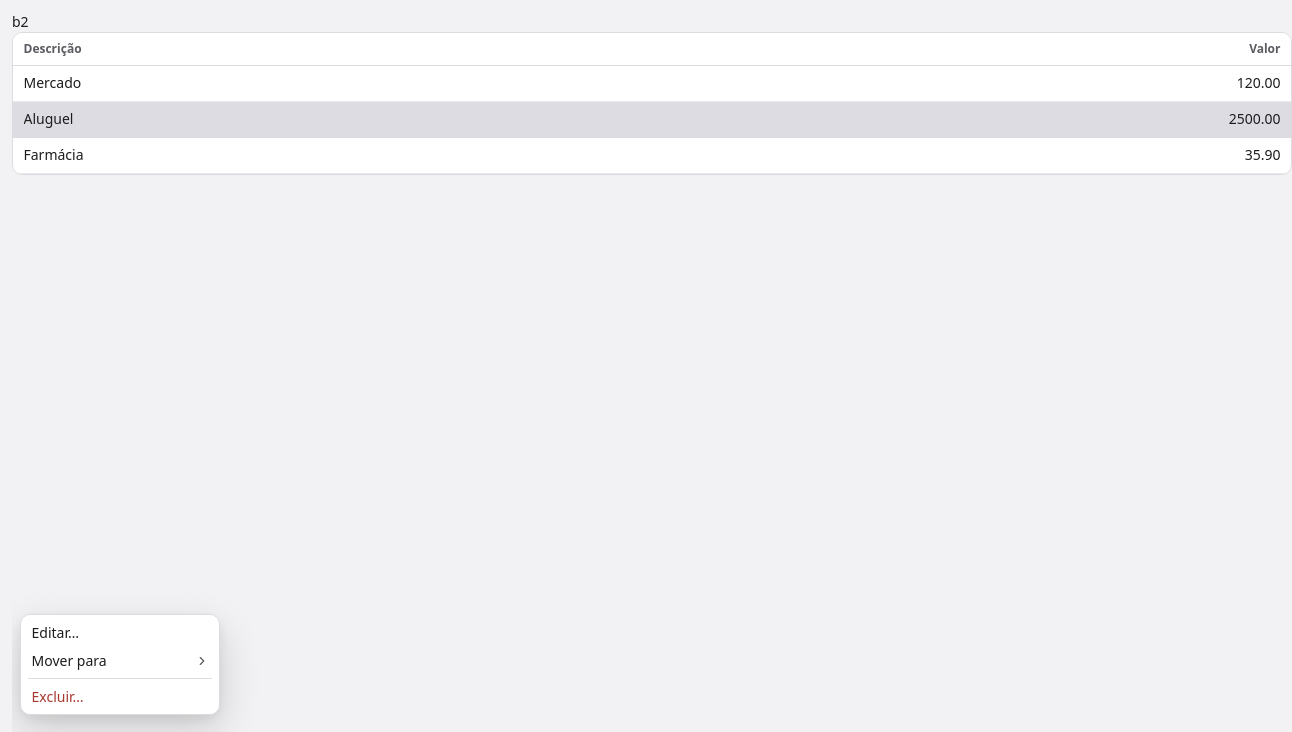
Test: DataTable row context menu › opens on a right click, selects the row, runs a command and gives the focus back to the table
Expected: the text with test id "selected" reads "b2", top-left (12, 12), bottom-right (29, 31)
Click the menu item "Editar…". click: (55, 632)
box: top-left (32, 622), bottom-right (79, 642)
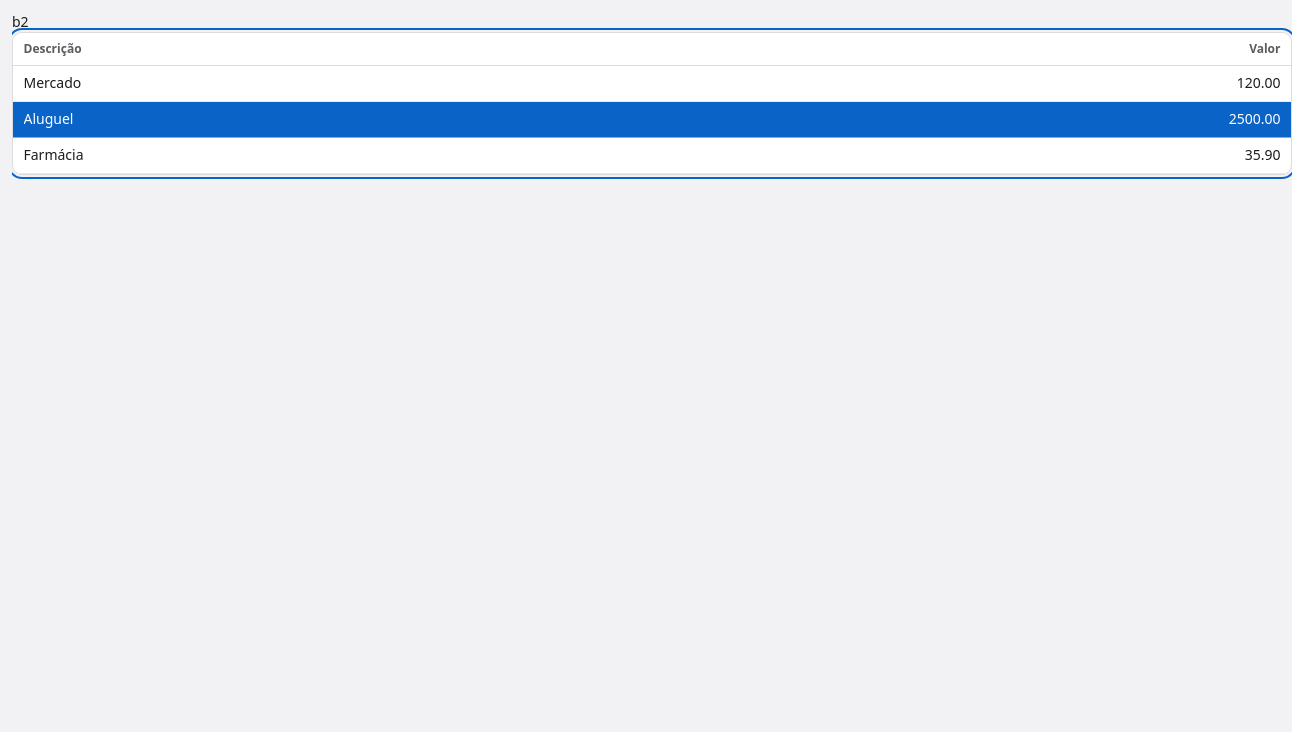
Expected: the menu is gone
